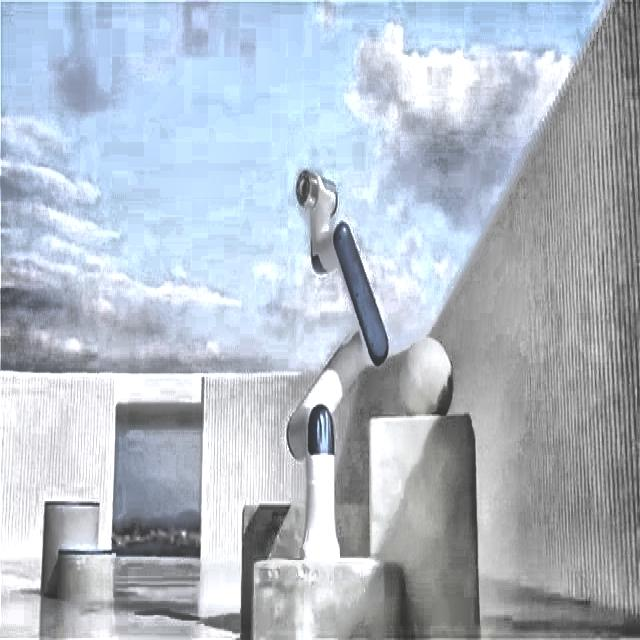robot: (285, 166, 389, 558)
